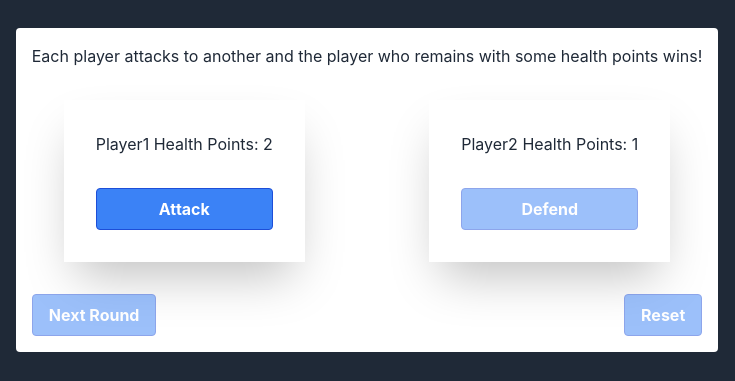
Card Player Component display winner
Click the button "Attack".
click(184, 209)  # box [96,188,273,230]
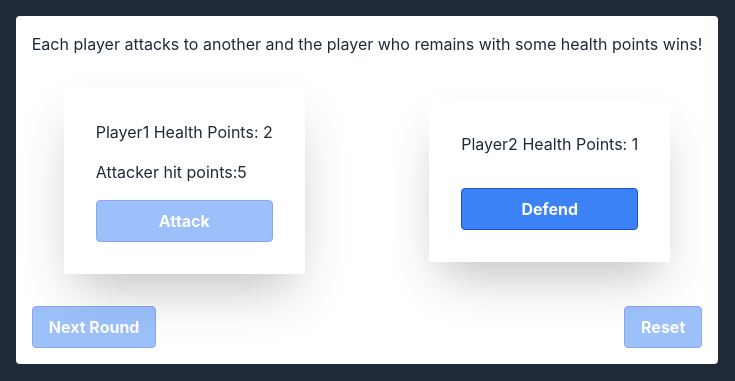
Result: the text "Attacker hit points:5" is shown at [96,160,273,184]
Click the button "Defend".
click(550, 209)  # box [461,188,638,230]
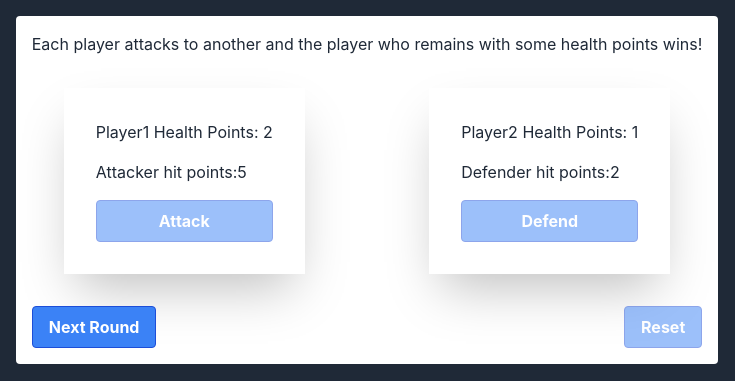
Click the button "Next Round".
click(94, 327)  # box [32,306,156,348]
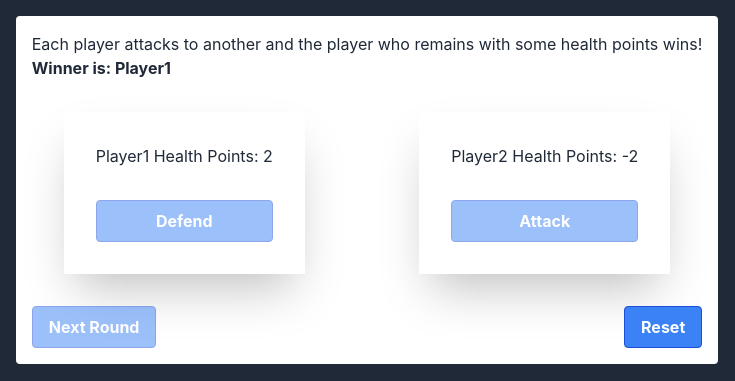
Result: the text "Winner is: Player1" is shown at [32,58,171,78]
